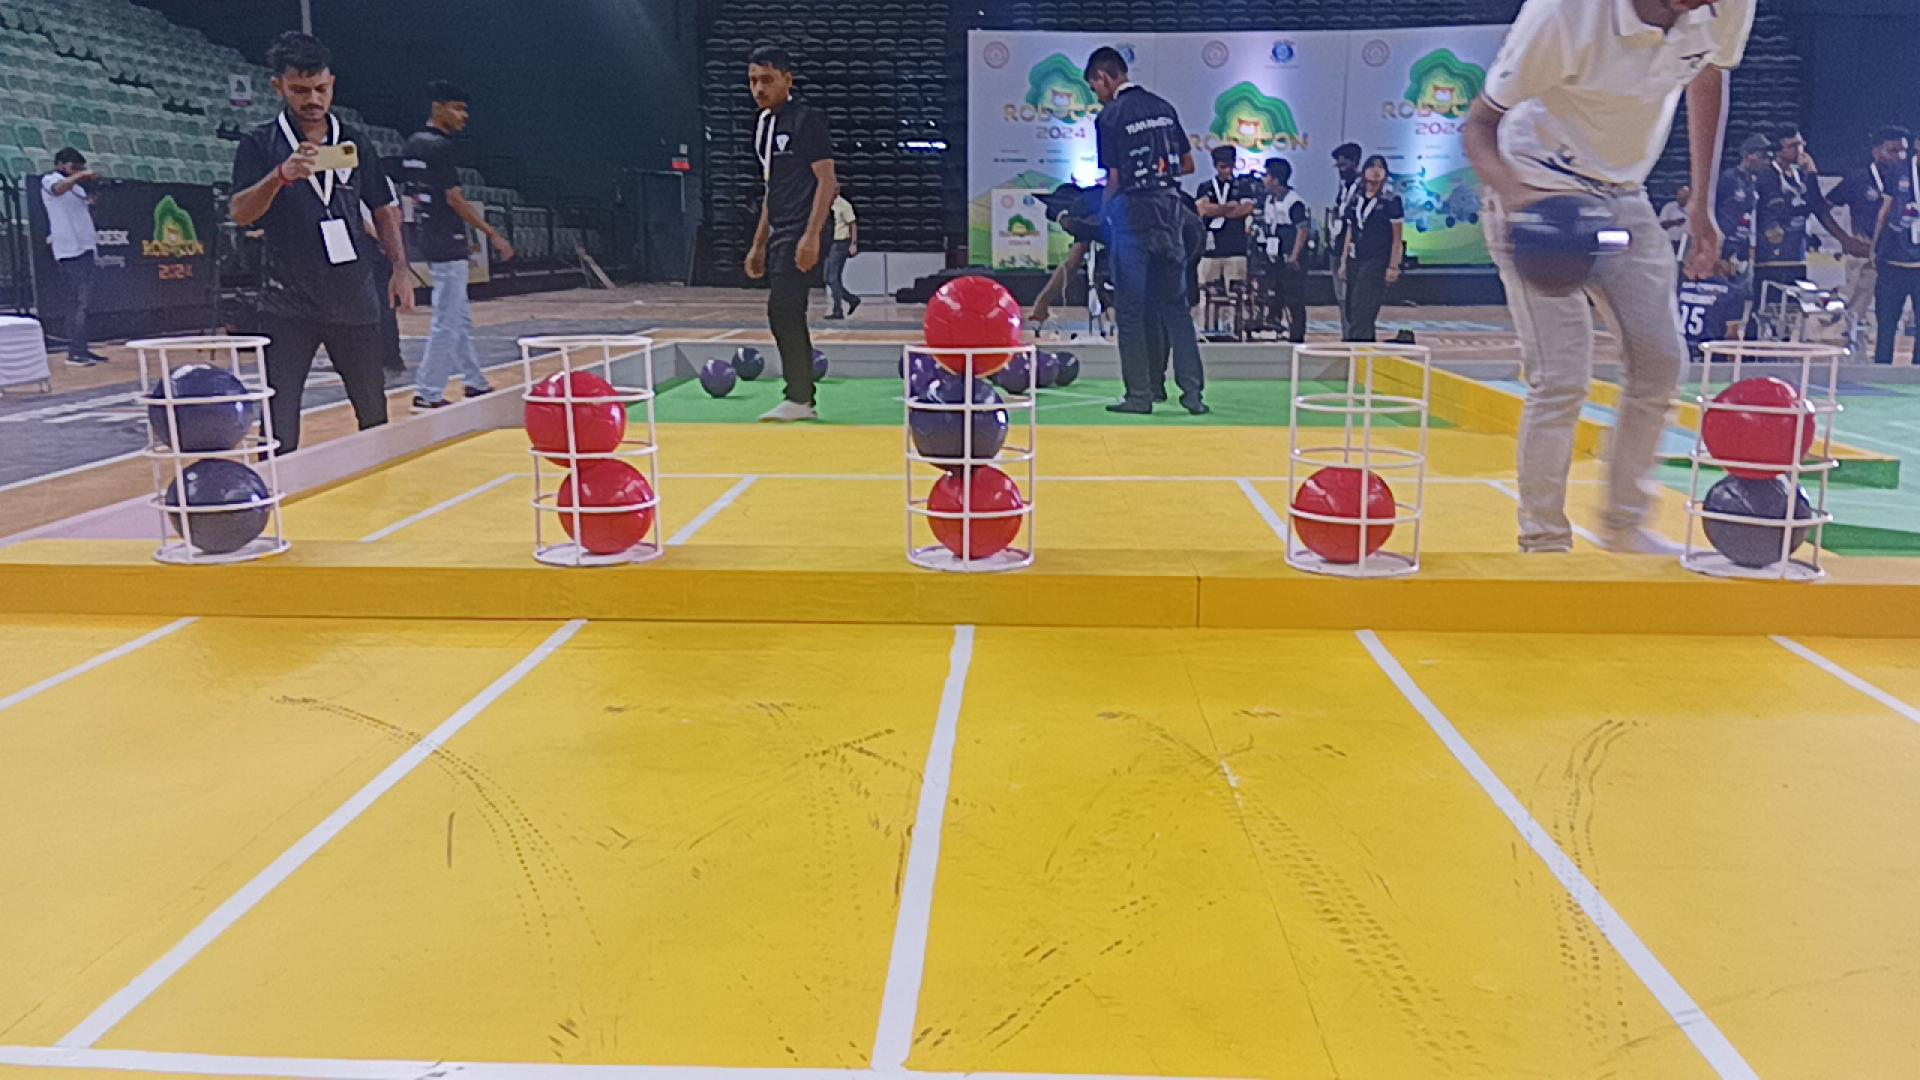dhoka: (1701, 473, 1815, 571), (907, 368, 1011, 473), (164, 459, 273, 556), (145, 361, 258, 451)
laale: (1701, 377, 1817, 481), (923, 274, 1025, 378), (1292, 465, 1398, 563), (526, 369, 629, 467), (554, 458, 655, 555), (924, 464, 1022, 556)
